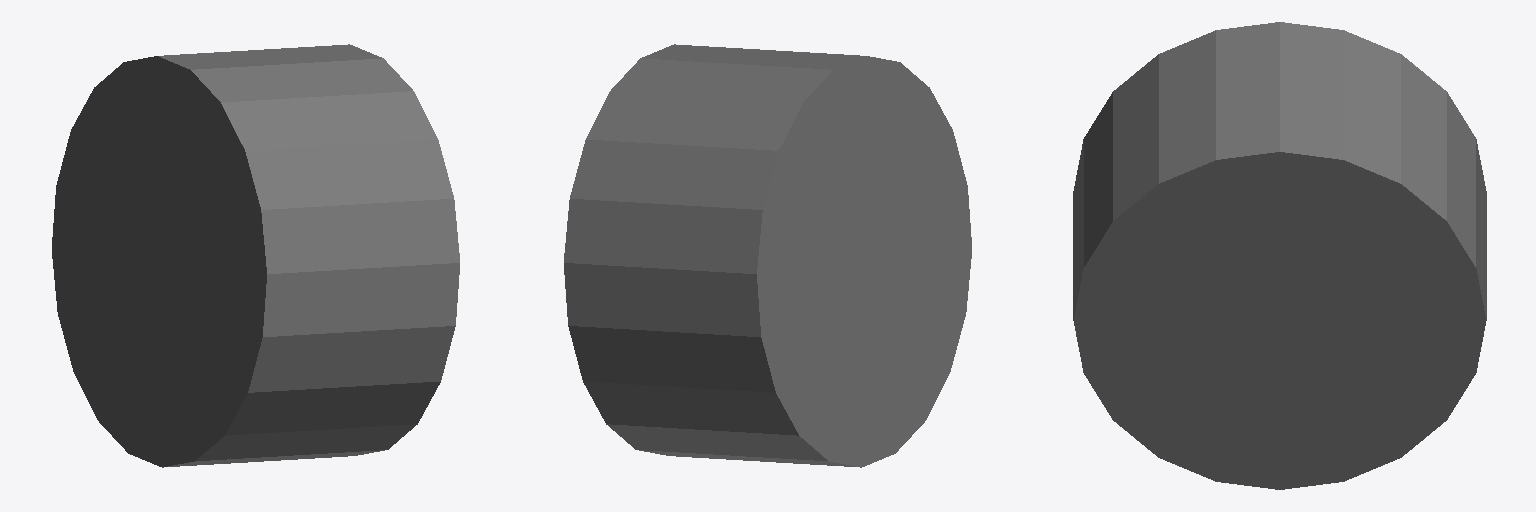
The model's file is wireConnectorHead.obj.
The picture shows the model from 3 angles: view 1: azimuth 30°, elevation 25°; view 2: azimuth 150°, elevation 25°; view 3: azimuth 270°, elevation 25°; orthographic projection.
Visible parts, largest first — view 1: pCylinder31 pCylinder30; view 2: pCylinder31 pCylinder30; view 3: pCylinder31 pCylinder30.
Part boxes in pixels (x1,y1,x2,y2): pCylinder31 pCylinder30: (52, 44, 459, 467); pCylinder31 pCylinder30: (564, 44, 971, 467); pCylinder31 pCylinder30: (1073, 22, 1486, 489).
Bounding box in the file's own units: 0.7843 × 1.19 × 1.1.